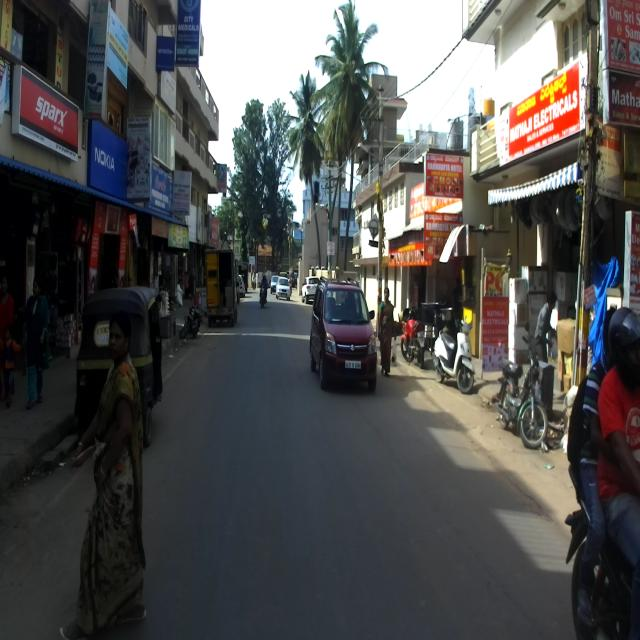car ahead at: (313, 279, 381, 392)
motorcycle ahead at: (500, 323, 550, 452), (436, 309, 477, 390)
person ahead at: (78, 311, 148, 640)
